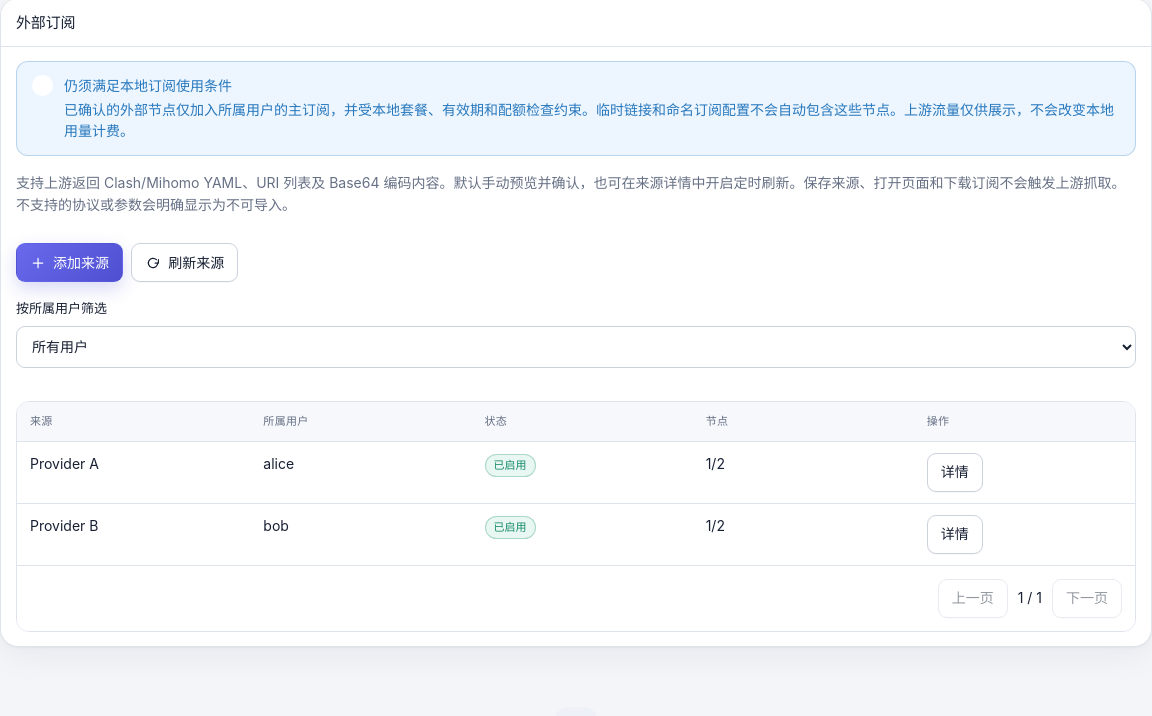
Test case: external sources: explicit administration and secret handling › does not let a late source detail replace a newly selected owner
Click the button named "查看外部订阅来源 Provider A": point(955, 472) top-left (927, 453), bottom-right (983, 492)
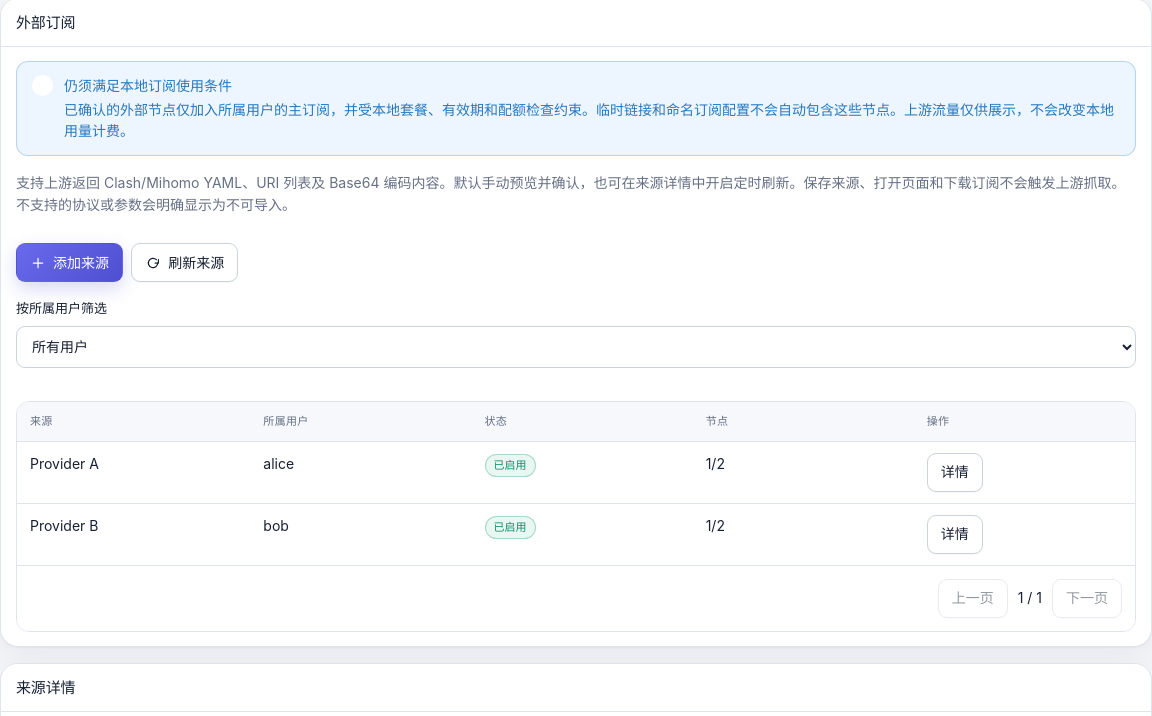
Click the button named "查看外部订阅来源 Provider B": point(955, 534) top-left (927, 515), bottom-right (983, 554)
(page scrolled)
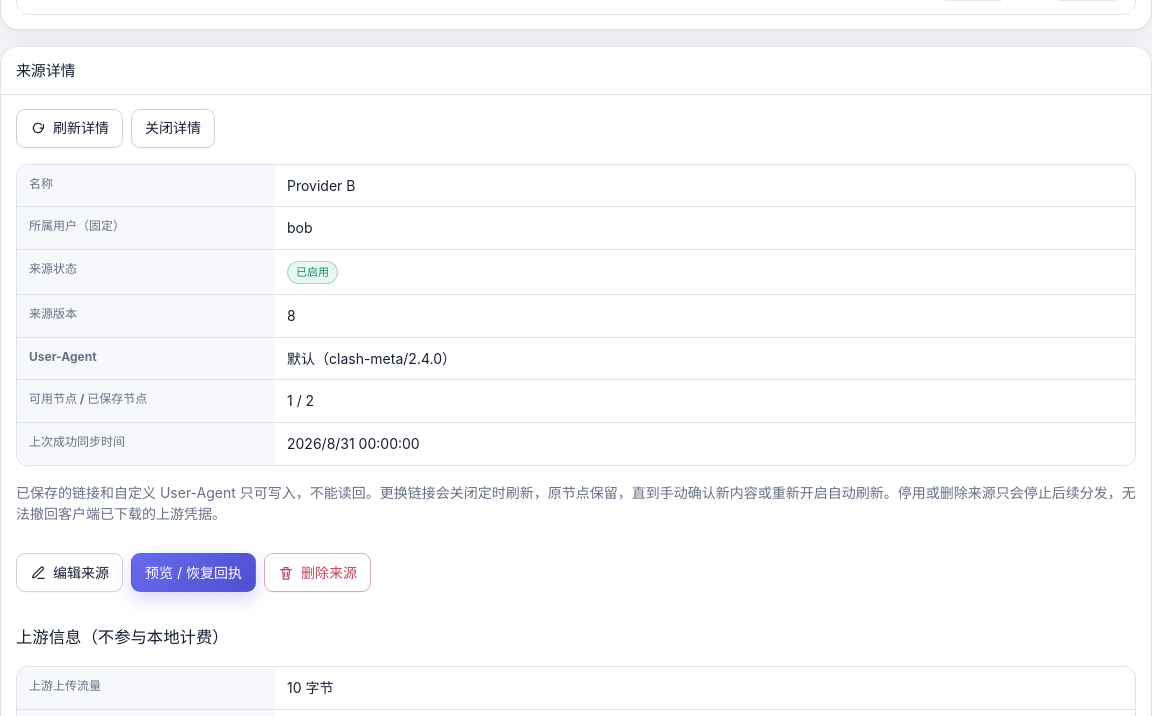
Expected: the text "alice" is not shown
Now the text "bob" is shown, box top-left (287, 219), bottom-right (312, 236)
Now the text "默认（clash-meta/2.4.0）" is shown, box top-left (287, 350), bottom-right (456, 367)
